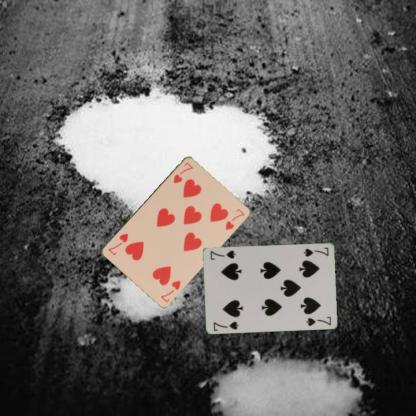7h: (158, 276, 181, 304), (169, 160, 194, 184)
7s: (301, 244, 330, 258), (211, 319, 240, 332)
